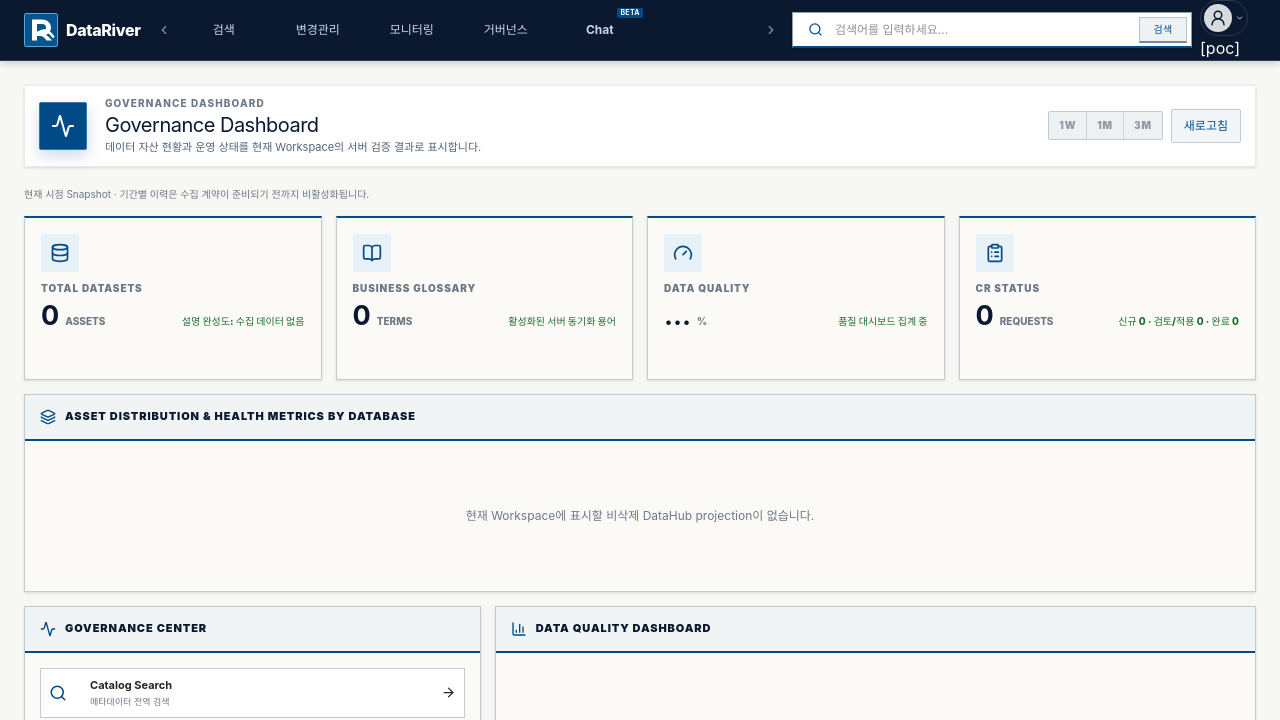
Scenario: POC compatibility application › shows product workspaces but not Admin entries in the manager profile menu
The image size is (1280, 720).
Click the button named "POC User 사용자 메뉴" at (1224,18), box [1200,0,1248,36]
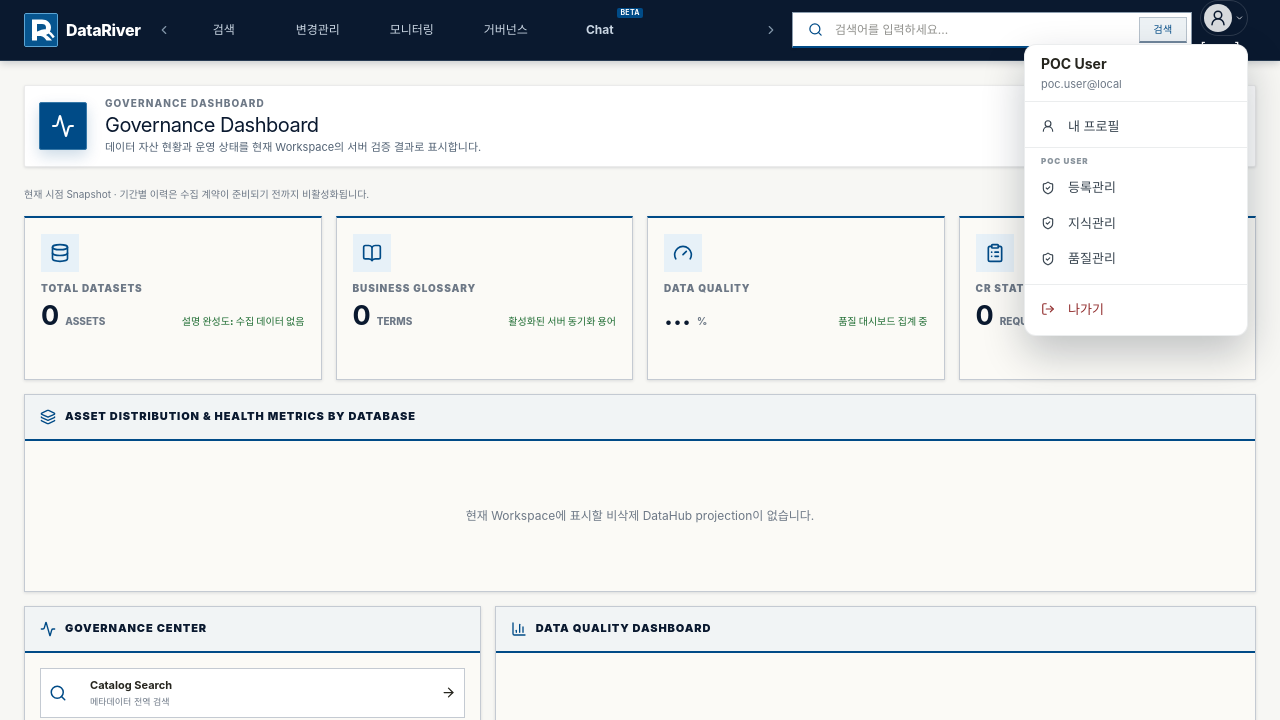
Result: the menu item "내 프로필" is shown at [1025,108,1247,144]
Result: the menu item "등록관리" is shown at [1025,170,1247,206]
Result: the menu item "지식관리" is shown at [1025,206,1247,241]
